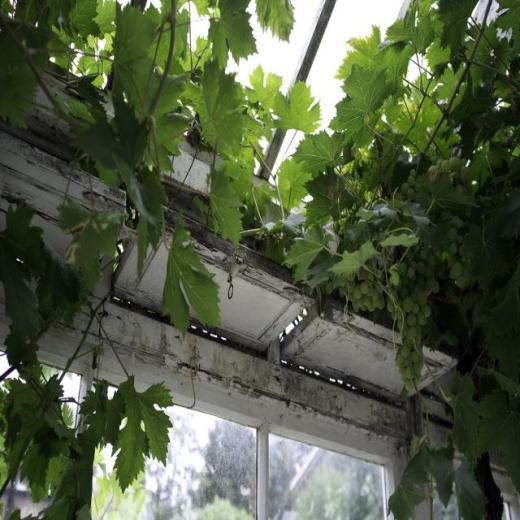Orange: (325, 243, 441, 396), (446, 215, 479, 290), (431, 156, 473, 193), (401, 183, 410, 196), (408, 186, 414, 200), (409, 176, 414, 185), (409, 171, 416, 177)
